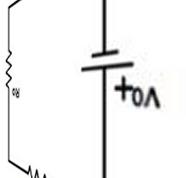resistor: (0, 46, 17, 90)
